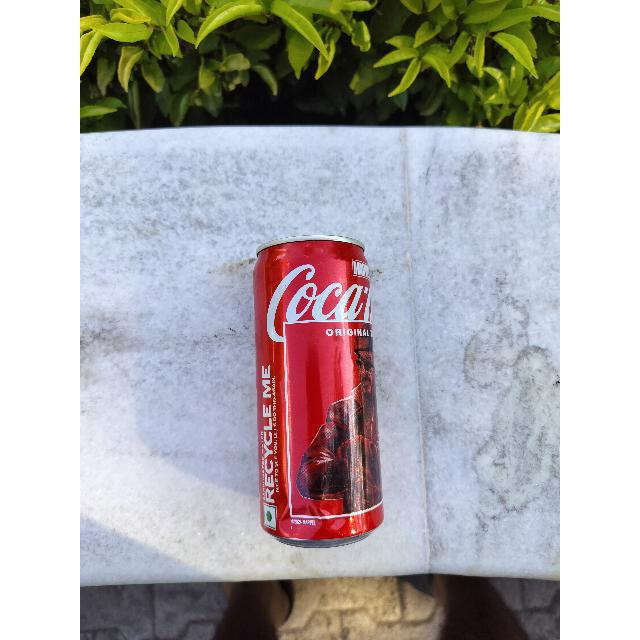Coca Cola - Marvel: (254, 235, 384, 545)
